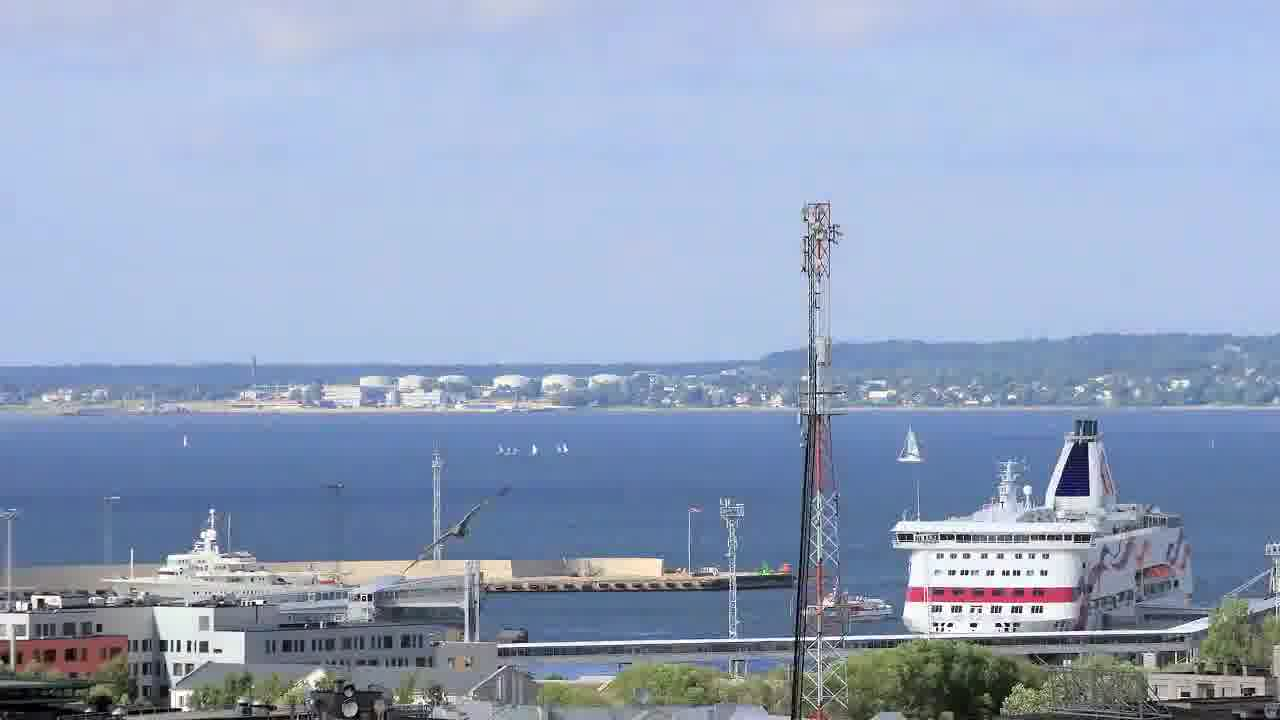type-1: (784, 575, 897, 628)
type-2: (889, 418, 942, 467)
type-3: (868, 415, 1225, 638), (84, 537, 359, 610)
